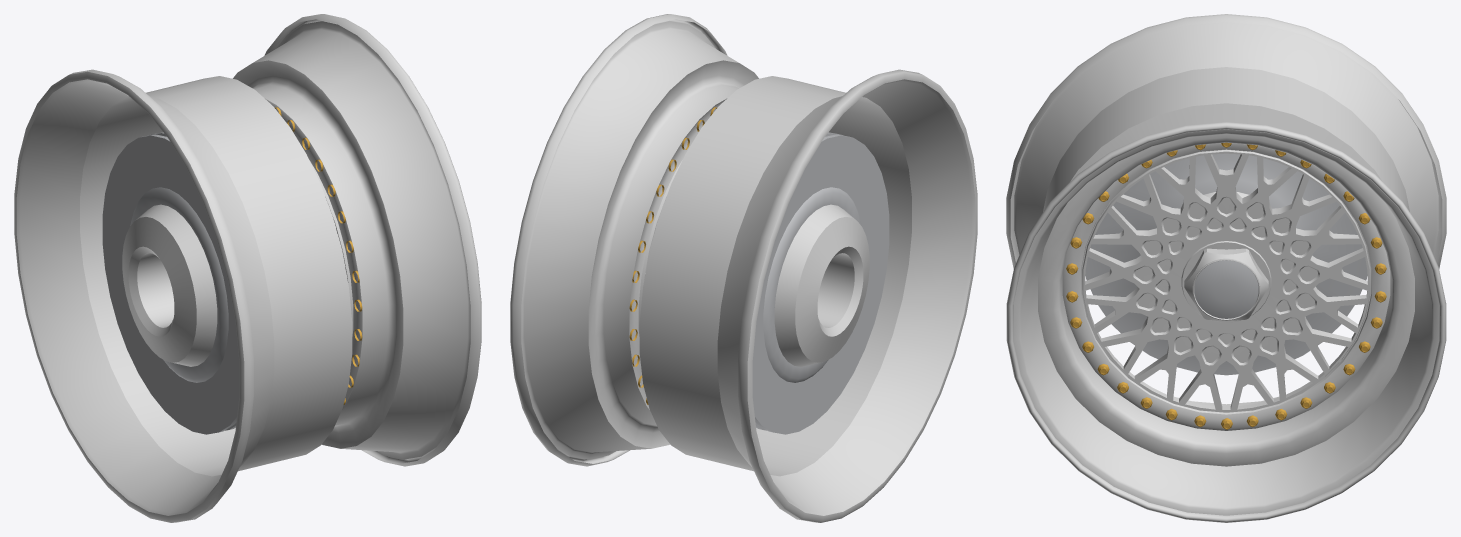
3 views of the same model, side by side, from view 1: azimuth 30°, elevation 25°; view 2: azimuth 150°, elevation 25°; view 3: azimuth 270°, elevation 25° (orthographic). The views are drawn at different scales.
Parts seen in each view (by area): view 1: Object_7, Object_2, Object_4; view 2: Object_7, Object_2, Object_4; view 3: Object_7, Object_2, Object_4.
Part boxes in pixels (<box>): Object_7: <box>14,14,481,522</box>; Object_2: <box>102,132,239,434</box>; Object_4: <box>275,107,362,404</box>; Object_7: <box>510,14,977,522</box>; Object_2: <box>752,132,889,434</box>; Object_4: <box>629,107,716,404</box>; Object_7: <box>1006,14,1446,522</box>; Object_2: <box>1085,153,1367,375</box>; Object_4: <box>1066,142,1386,429</box>.
Size of the model in its own units: 2.31 by 3.87 by 3.86.
